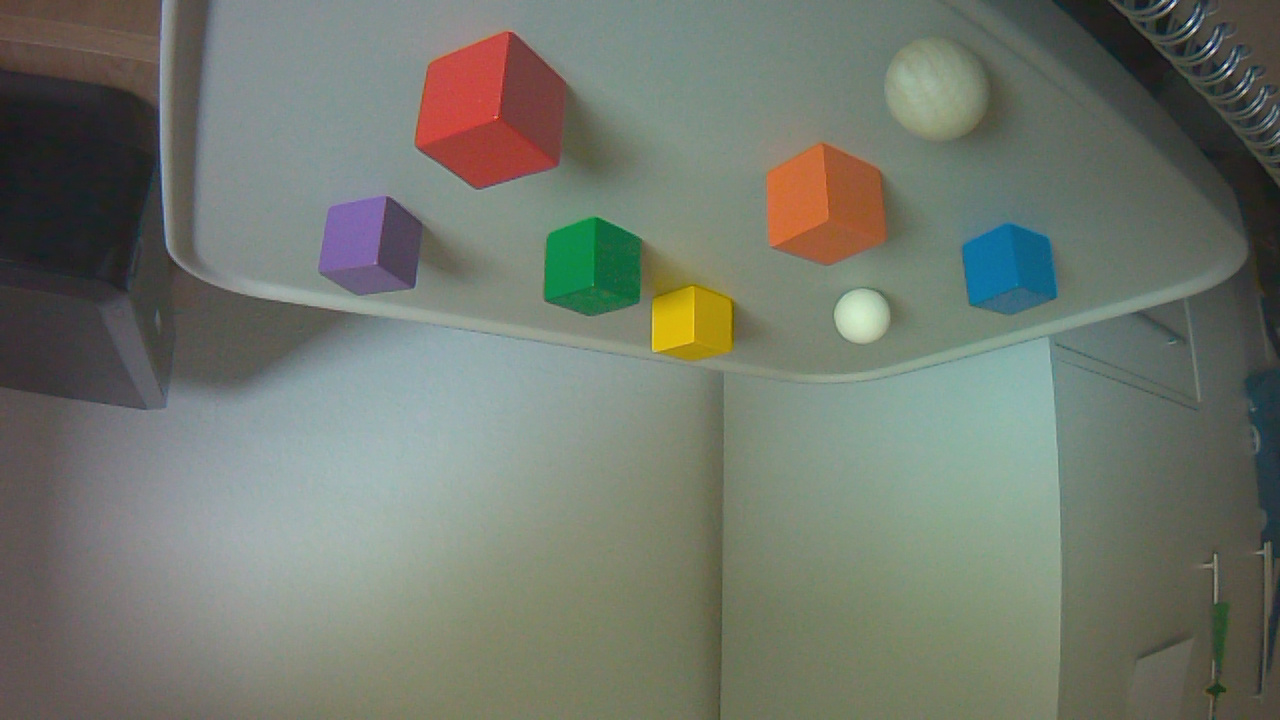ball: (885, 40, 1001, 152), (837, 290, 898, 352)
cube_blue: (964, 224, 1065, 323)
cube_green: (546, 222, 650, 323)
cube_orange: (767, 146, 894, 274)
cube_purple: (321, 199, 428, 305)
cube_red: (417, 34, 574, 197)
cube_yellow: (654, 287, 739, 371)
